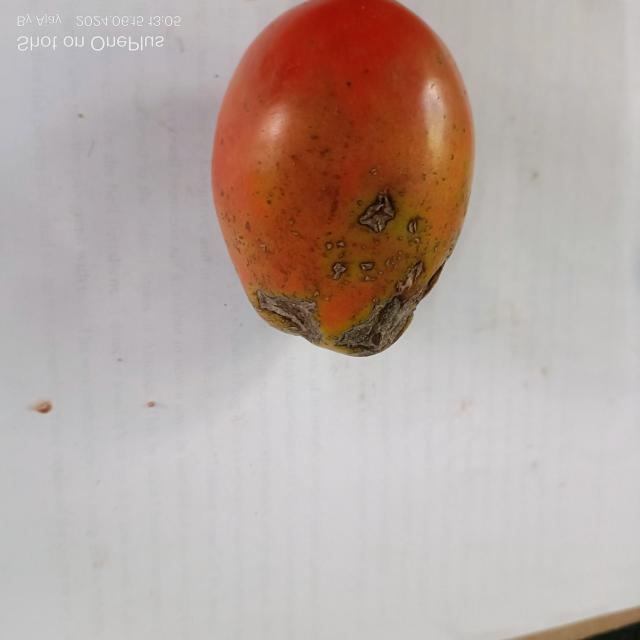Bacterial_Spot: (254, 254, 438, 360), (356, 192, 422, 242)
